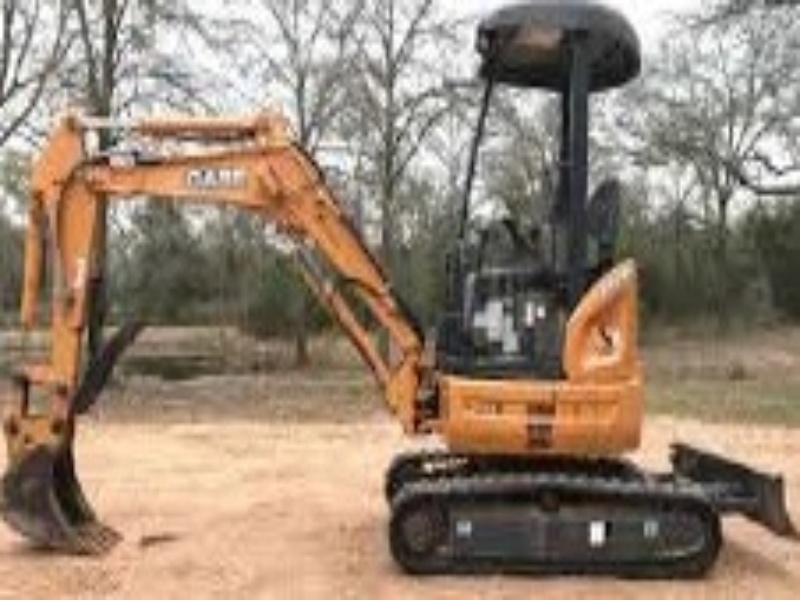wajueji: (328, 90, 766, 600)
